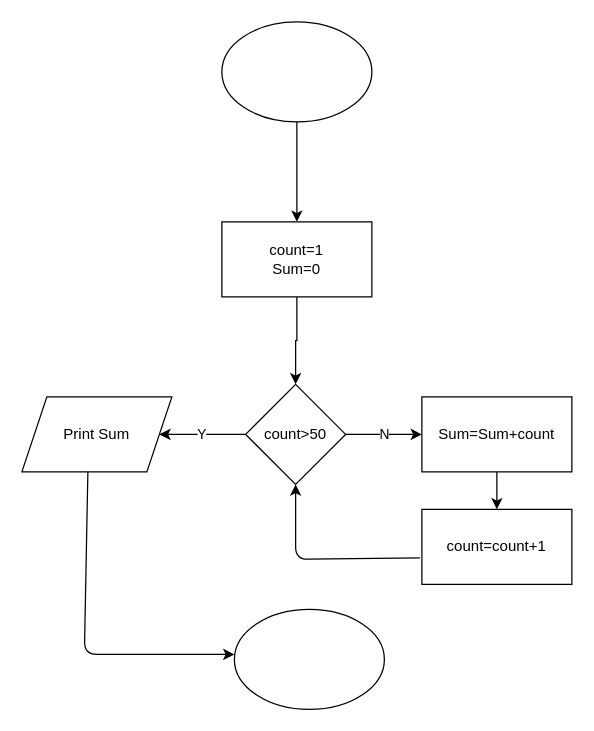
Image size: 594x731. Some labels were removed from this diagram. The shapes that lost their labels are listed below. From the top down, each one's centre as x and y in pixels, then its label:
point (296, 71): Start
point (308, 658): End
